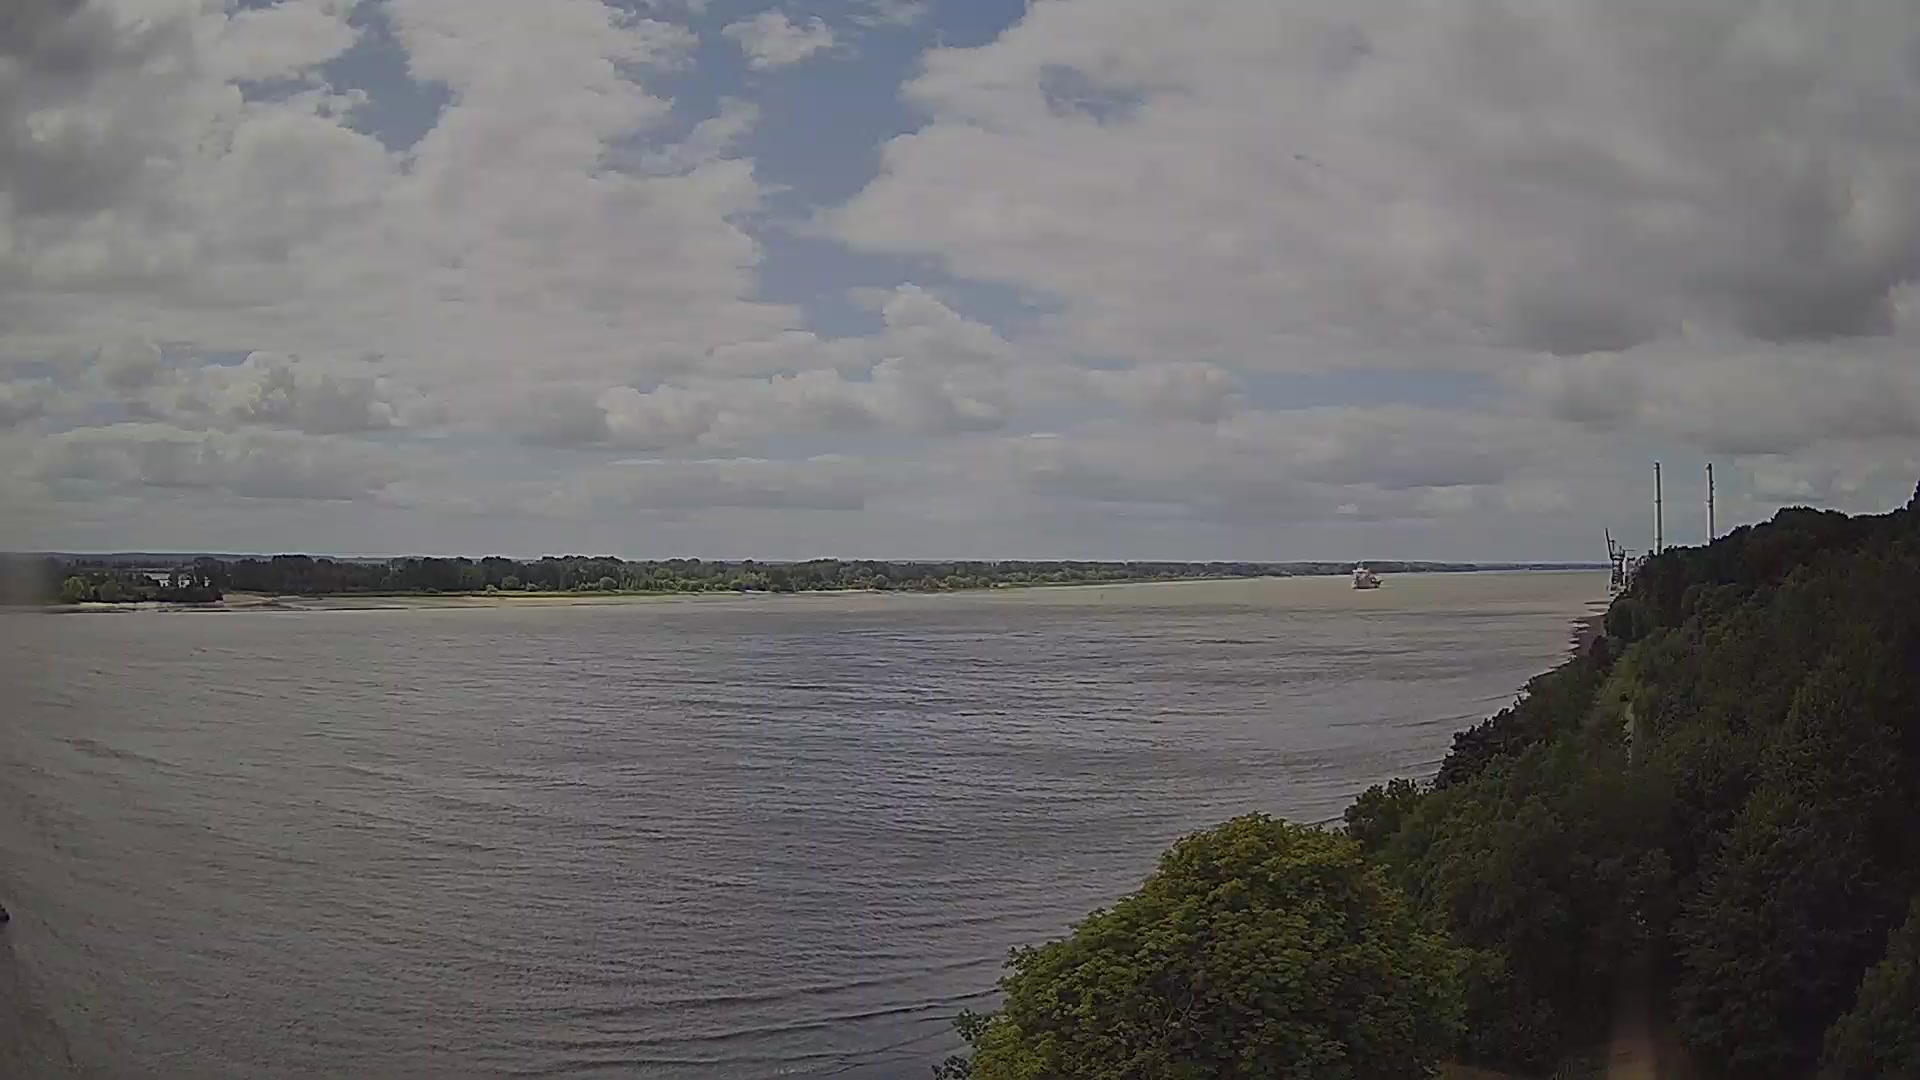sea: (1350, 560, 1385, 591)
